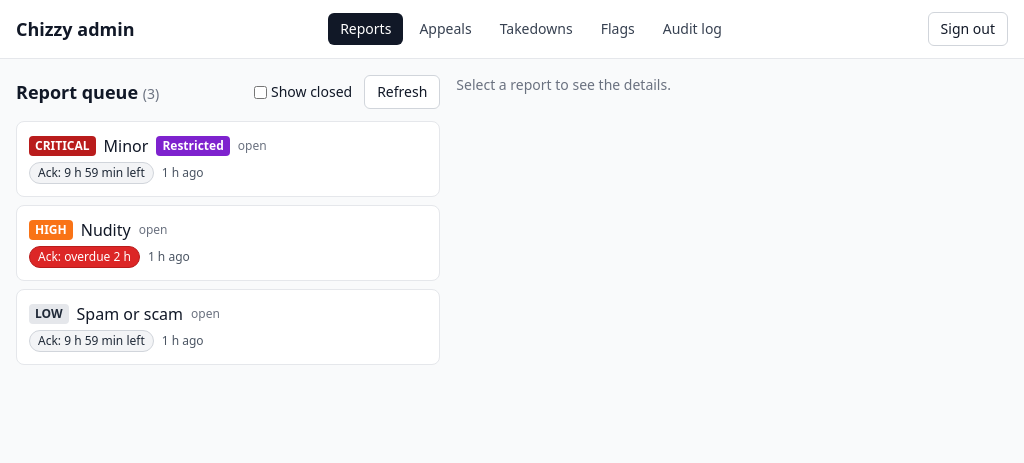
Test: admin console › decides appeals and resolves takedowns
The image size is (1024, 463).
Click the button "Appeals": x=446, y=29 left=407, top=13, right=484, bottom=45
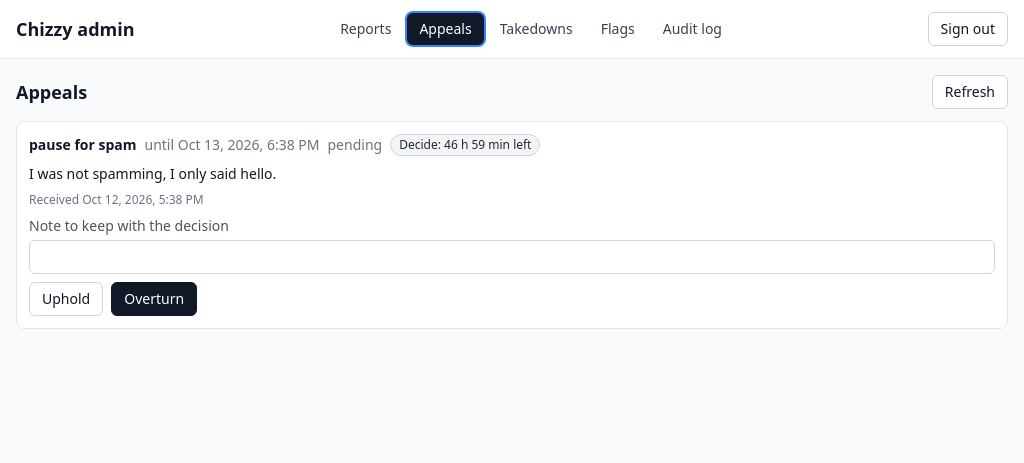
Expected: the list item with test id "appeal-item" shows "I was not spamming", left=29, top=164, right=276, bottom=183
Click the button "Overturn": x=154, y=299 left=111, top=282, right=197, bottom=316
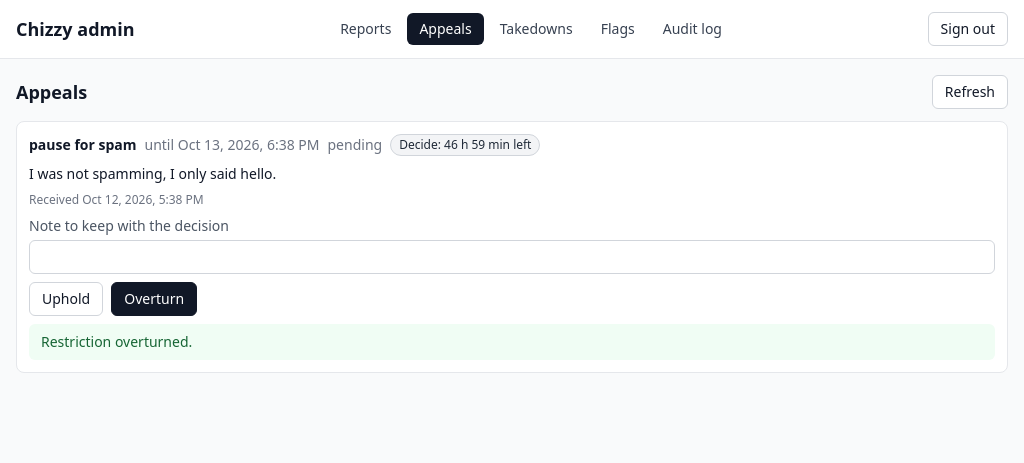
Expected: the text "Restriction overturned." is shown, left=29, top=324, right=995, bottom=360
Click the button "Takedowns": x=536, y=29 left=488, top=13, right=585, bottom=45
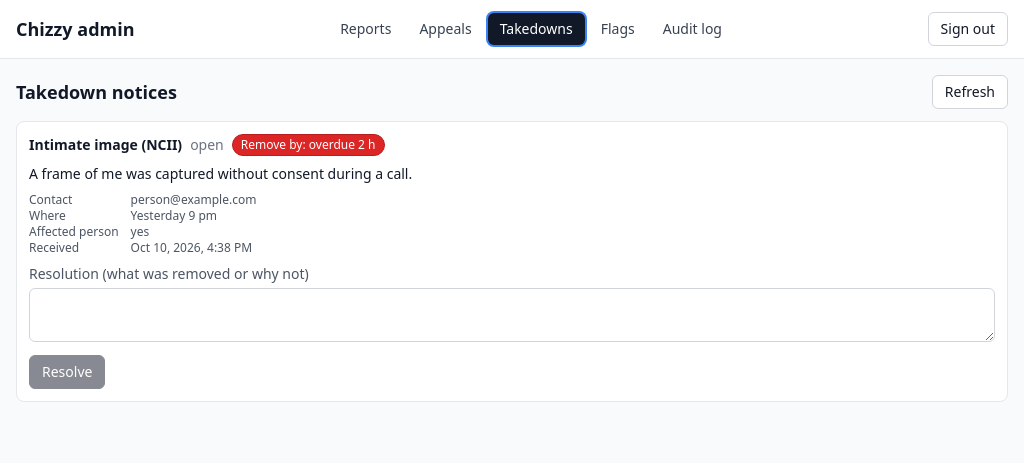
Expected: the button "Resolve" is disabled, left=29, top=355, right=105, bottom=389
In the text box labelled "Resolution (what was removed or why not)": x=512, y=315 left=29, top=288, right=995, bottom=342, type "Frame deleted"
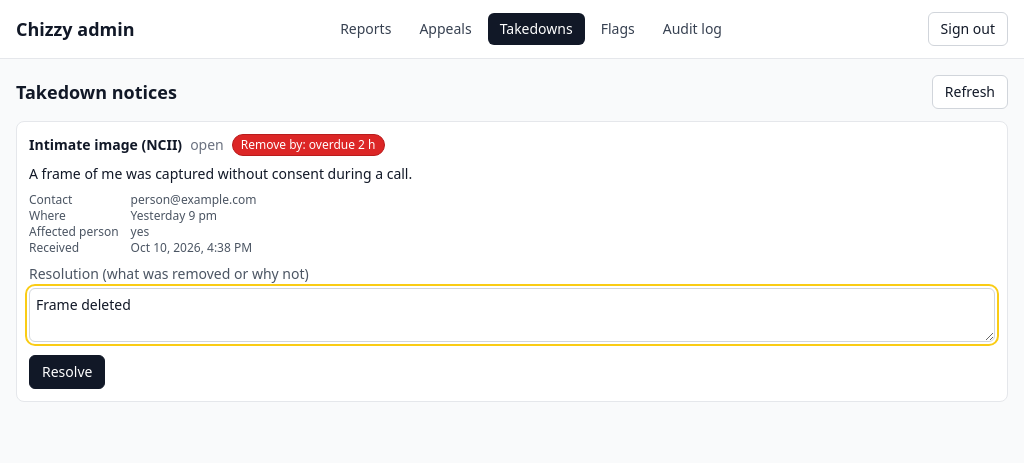
Click the button "Resolve": x=67, y=372 left=29, top=355, right=105, bottom=389
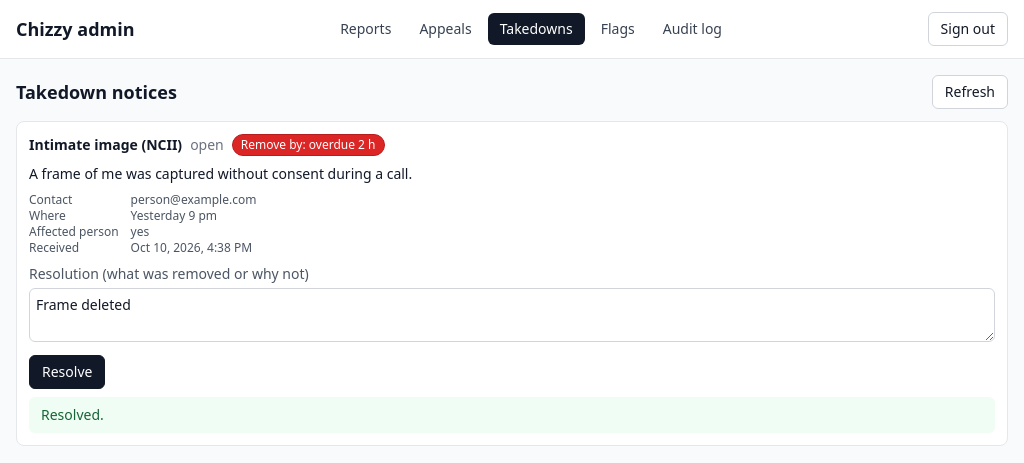
Expected: the text "Resolved." is shown, left=29, top=397, right=995, bottom=433
